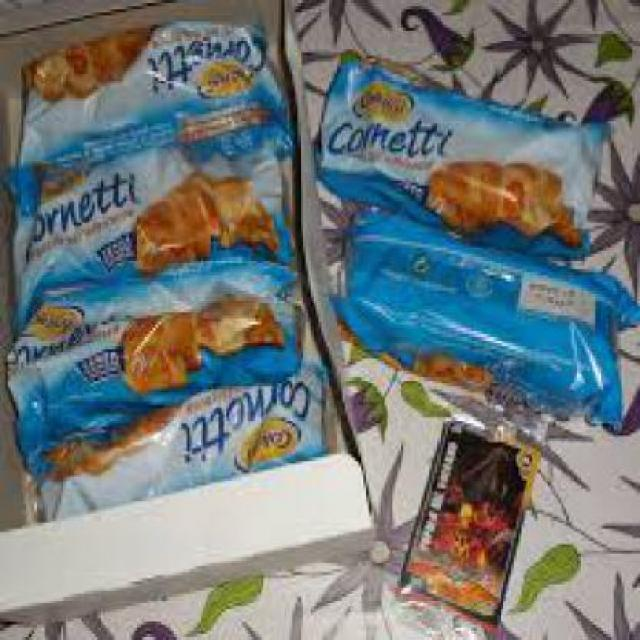Merendine: (334, 207, 638, 433), (310, 43, 606, 260), (5, 280, 314, 412), (10, 19, 287, 161), (4, 167, 296, 290)
